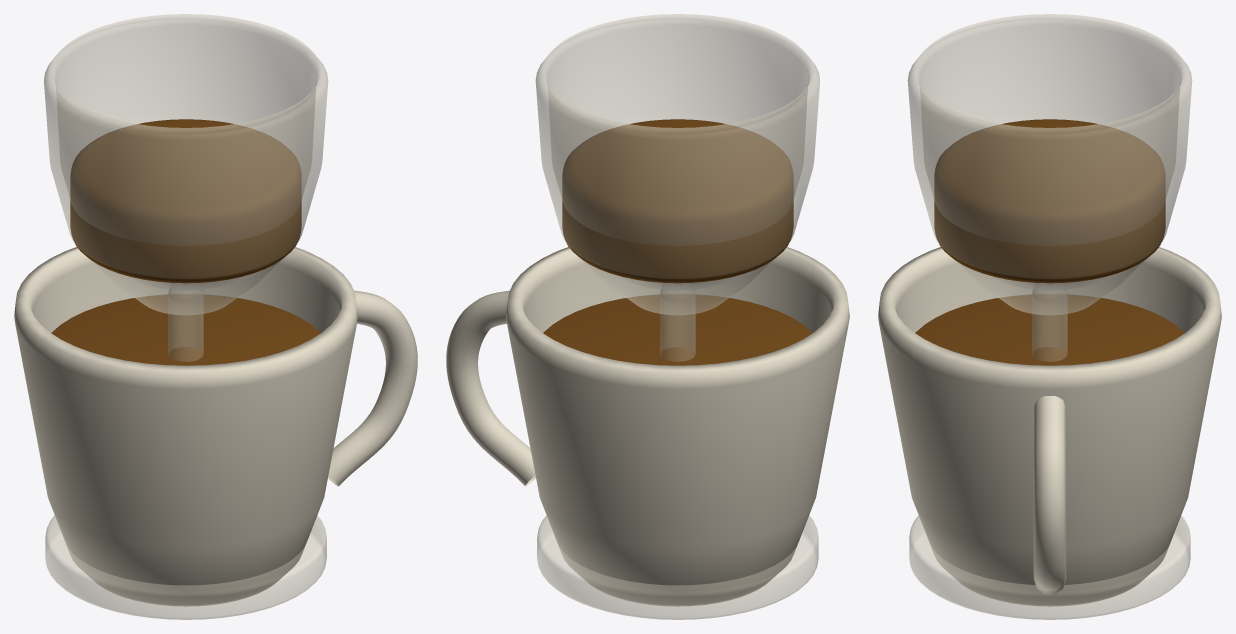
The model's file is props.glb.
The picture shows the model from 3 angles, left to right: view 1: azimuth 30°, elevation 25°; view 2: azimuth 150°, elevation 25°; view 3: azimuth 270°, elevation 25°; orthographic projection.
Parts seen in each view (by area): view 1: TeaCup, WineGlass, Wine liquid, Tea liquid, Wine base, Tea handle, Wine stem; view 2: TeaCup, WineGlass, Wine liquid, Tea liquid, Wine base, Tea handle, Wine stem; view 3: TeaCup, WineGlass, Wine liquid, Tea liquid, Wine base, Tea handle, Wine stem.
Boxes of the visible parts, x1,y1,x2,y2 form: TeaCup: [14, 247, 357, 606]; WineGlass: [44, 14, 328, 315]; Wine liquid: [70, 119, 301, 283]; Tea liquid: [51, 294, 320, 365]; Wine base: [45, 515, 326, 619]; Tea handle: [328, 290, 417, 486]; Wine stem: [168, 289, 203, 361]; TeaCup: [506, 247, 849, 606]; WineGlass: [535, 14, 819, 315]; Wine liquid: [562, 119, 793, 283]; Tea liquid: [543, 294, 812, 365]; Wine base: [537, 515, 818, 619]; Tea handle: [446, 290, 535, 486]; Wine stem: [660, 289, 695, 361]; TeaCup: [878, 247, 1221, 606]; WineGlass: [907, 14, 1192, 315]; Wine liquid: [934, 119, 1165, 283]; Tea liquid: [915, 294, 1184, 365]; Wine base: [909, 515, 1190, 619]; Tea handle: [1033, 396, 1066, 594]; Wine stem: [1032, 289, 1067, 361].
Bounding box in the file's own units: 0.2946 × 0.367 × 0.232.
